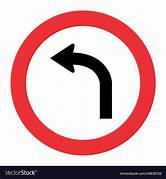left: (9, 9, 158, 155)
